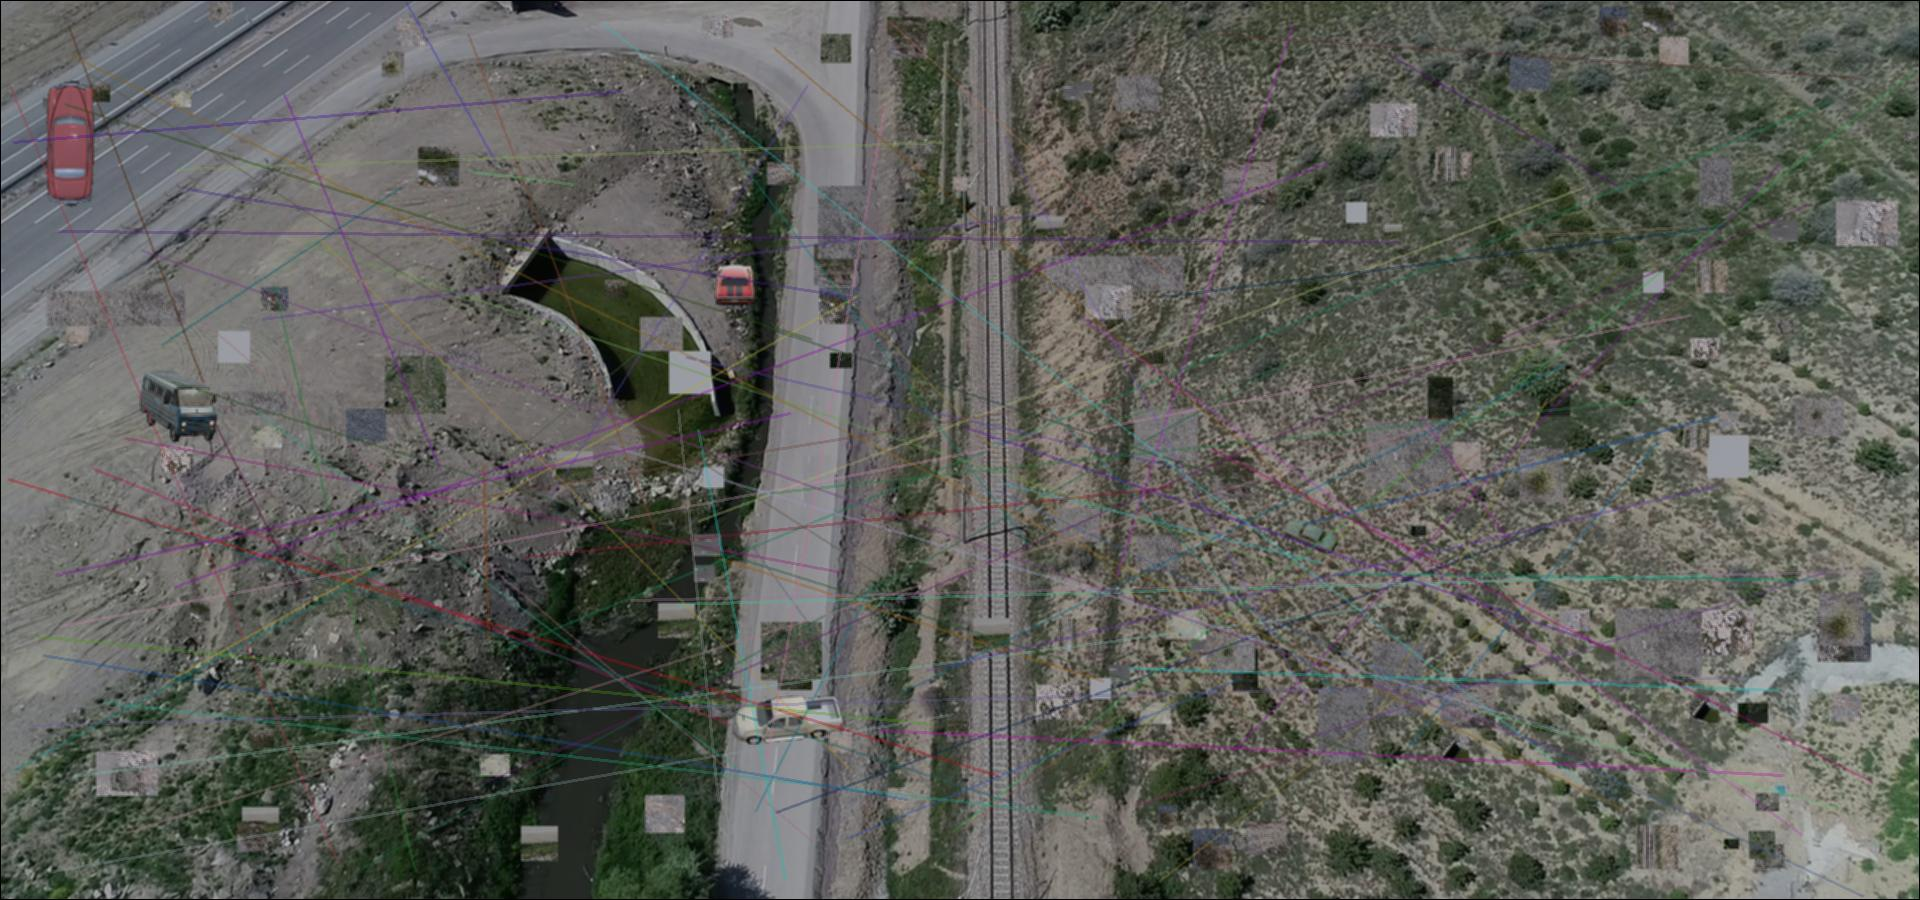arac: (43, 80, 100, 208), (137, 369, 220, 444), (733, 691, 847, 744), (1281, 516, 1340, 555), (710, 262, 756, 305)
